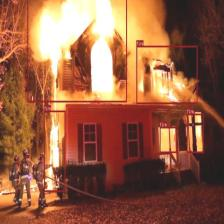fire: (27, 0, 127, 102), (136, 45, 197, 104), (44, 111, 65, 192), (186, 114, 204, 152), (160, 126, 176, 152)
